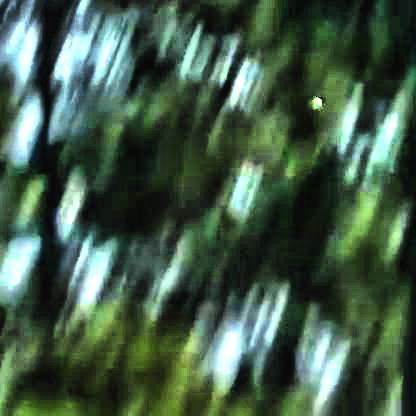golfball: (307, 93, 320, 106)
